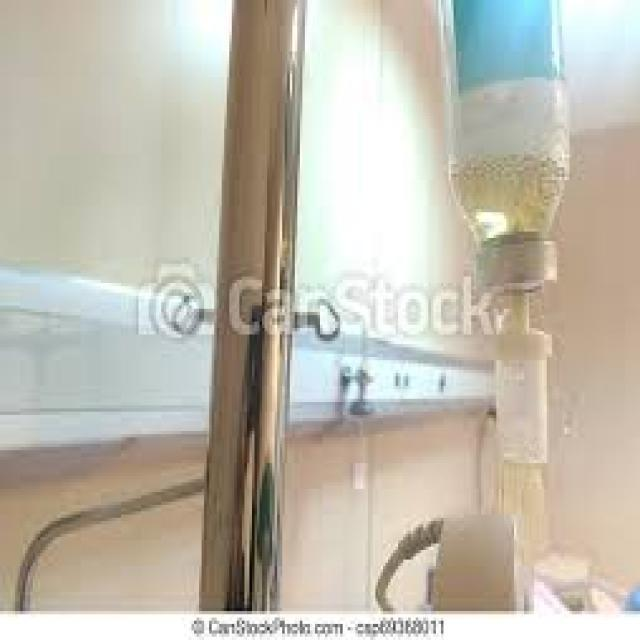iv_fluids: (440, 126, 616, 596)
